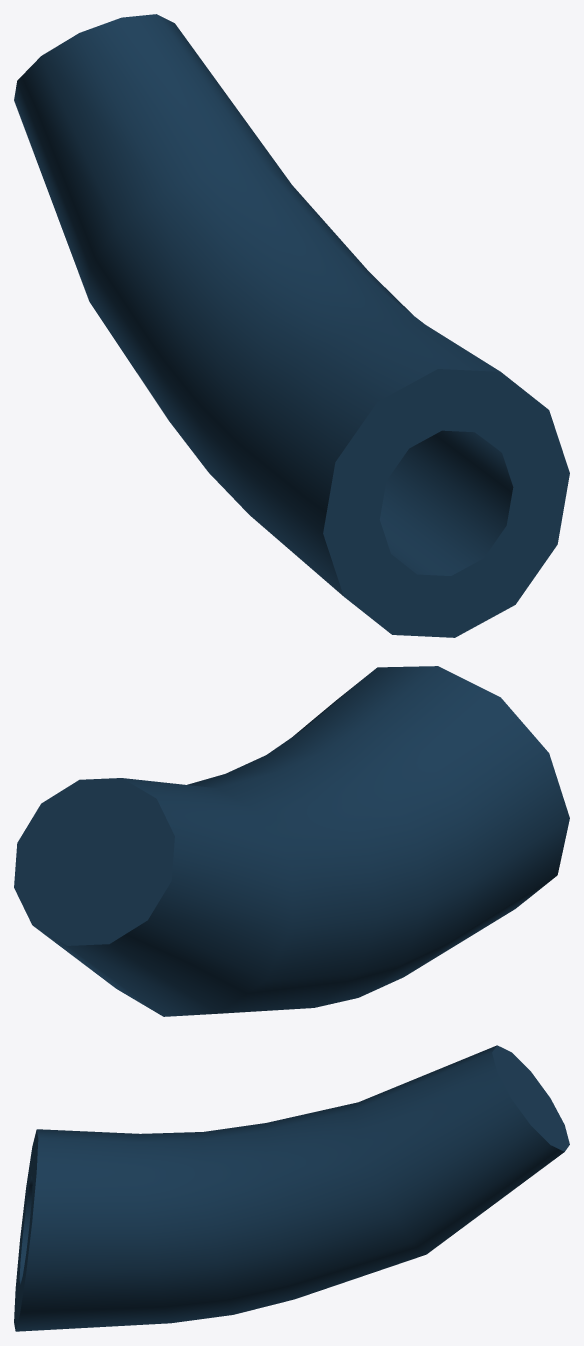
File: taxi_tier1_egzoz.fbx
3 renders of one model, top to bottom at view 1: azimuth 30°, elevation 25°; view 2: azimuth 150°, elevation 25°; view 3: azimuth 270°, elevation 25°, orthographic. The views are drawn at different scales.
Visible parts, largest first — view 1: Cylinder.017; view 2: Cylinder.017; view 3: Cylinder.017.
Boxes of the visible parts, x1,y1,x2,y2 form: Cylinder.017: [14, 14, 569, 637]; Cylinder.017: [14, 666, 569, 1016]; Cylinder.017: [14, 1045, 569, 1331].
Size of the model in its own units: 81.62 by 119 by 222.
